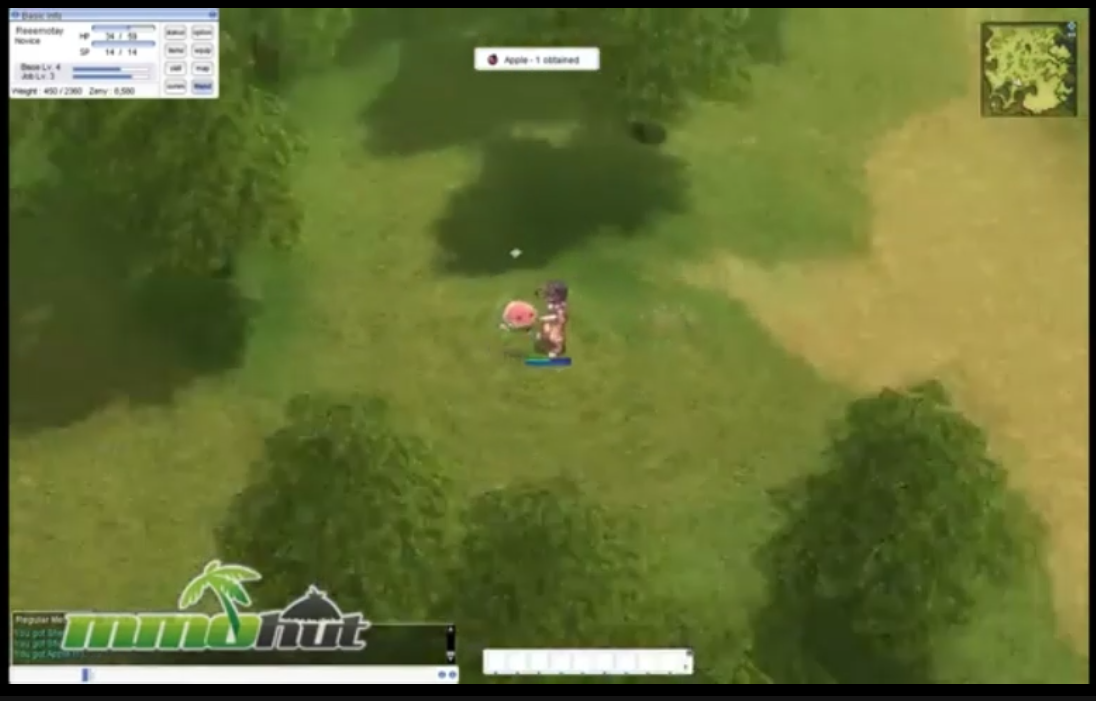porling: (497, 297, 542, 336)
